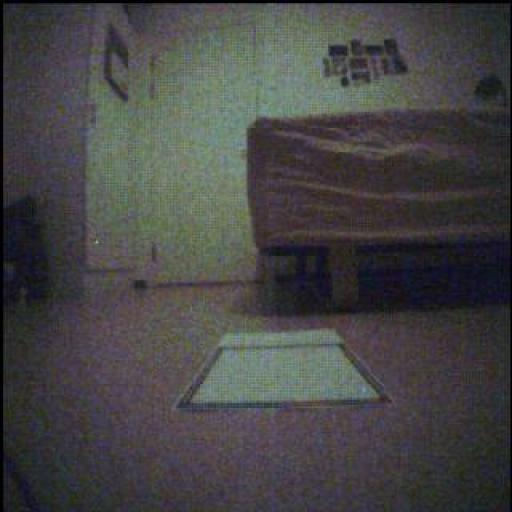pad: (177, 331, 391, 411)
